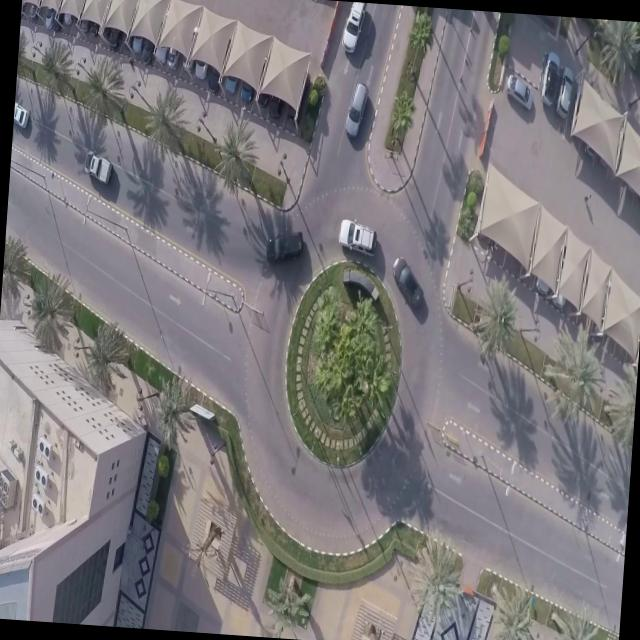car: (392, 254, 428, 312), (262, 225, 304, 270), (340, 218, 376, 258), (340, 1, 366, 56), (539, 46, 562, 108), (344, 79, 368, 138), (81, 148, 112, 188), (557, 57, 576, 122), (504, 71, 535, 109), (534, 243, 554, 300), (550, 260, 568, 308), (238, 61, 256, 106), (268, 75, 286, 119), (223, 53, 240, 98), (207, 46, 222, 94), (155, 20, 170, 66), (193, 44, 210, 83), (131, 10, 146, 54), (256, 63, 270, 108), (166, 30, 181, 71), (107, 10, 122, 50), (13, 100, 32, 129), (142, 20, 154, 65), (182, 34, 195, 75), (79, 0, 91, 33), (90, 1, 100, 37), (52, 0, 63, 31), (44, 0, 55, 29), (63, 0, 73, 26), (29, 0, 40, 19)
